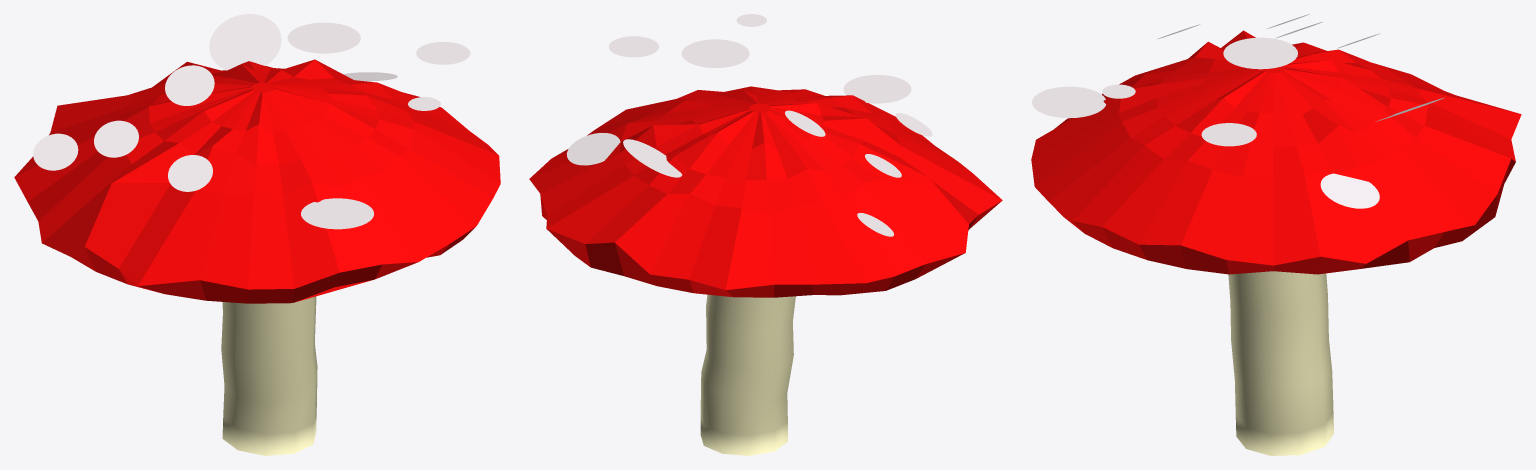
The model's file is mushroom.glb.
3 renders of one model, left to right at view 1: azimuth 30°, elevation 25°; view 2: azimuth 150°, elevation 25°; view 3: azimuth 270°, elevation 25°, orthographic. The views are drawn at different scales.
Visible parts, largest first — view 1: Circle, Circle.001, Stem; view 2: Circle, Stem, Circle.001; view 3: Circle, Stem, Circle.001.
Boxes of the visible parts, x1,y1,x2,y2 form: Circle: (14,59,500,303); Circle.001: (33,14,470,229); Stem: (221,296,317,455); Circle: (529,86,1002,297); Stem: (700,294,795,455); Circle.001: (566,14,932,236); Circle: (1031,30,1521,274); Stem: (1228,271,1333,455); Circle.001: (1032,14,1444,208).
Bounding box in the file's own units: 0.2057 × 0.1824 × 0.2005.
3 materials, 3 textured.
